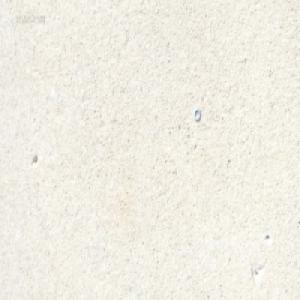Washer: (193, 106, 200, 121)
